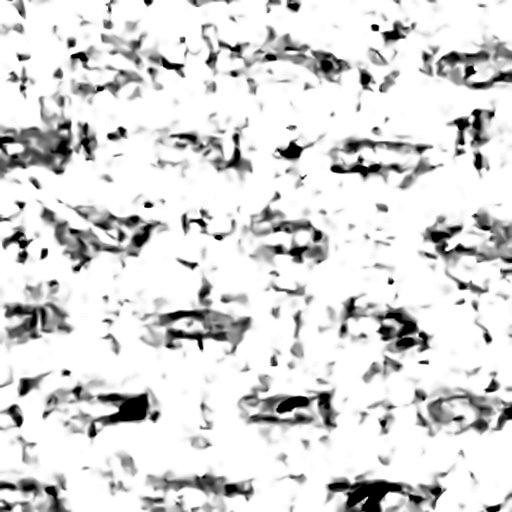egg: (341, 483, 370, 504), (365, 487, 389, 509), (277, 396, 306, 411)
